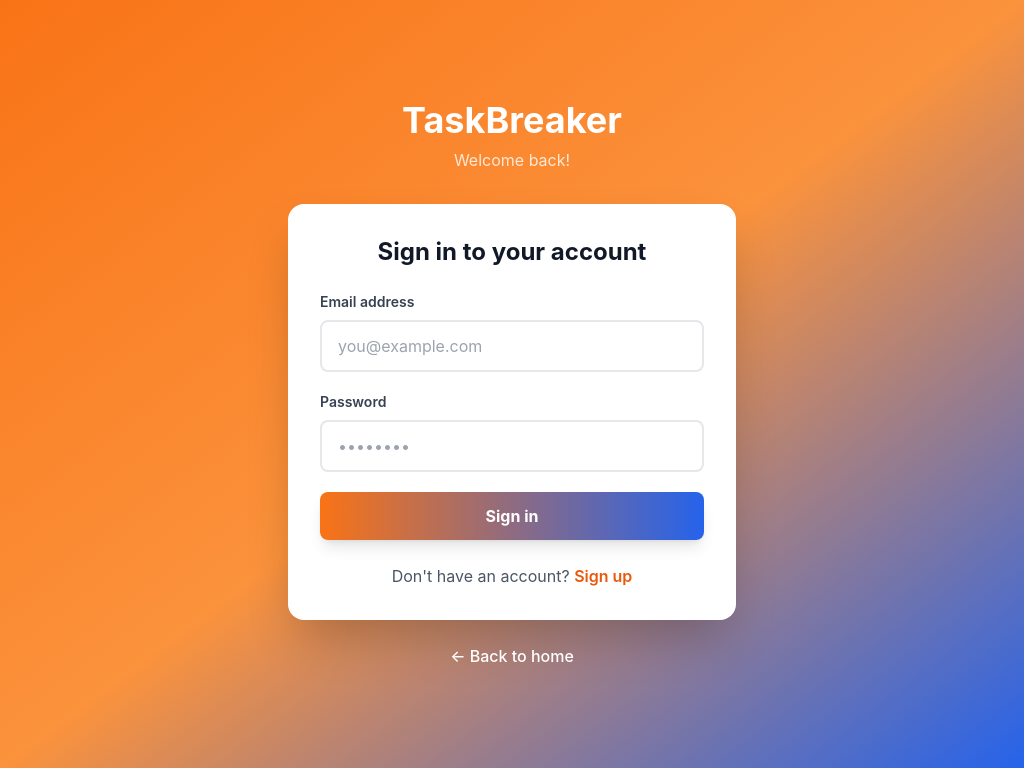
Scenario: LoginPage › Error Display › should display error message when login fails
Type "test@example.com" into the field labelled "Email address" at {"x": 512, "y": 346}, box [320,320,704,372]
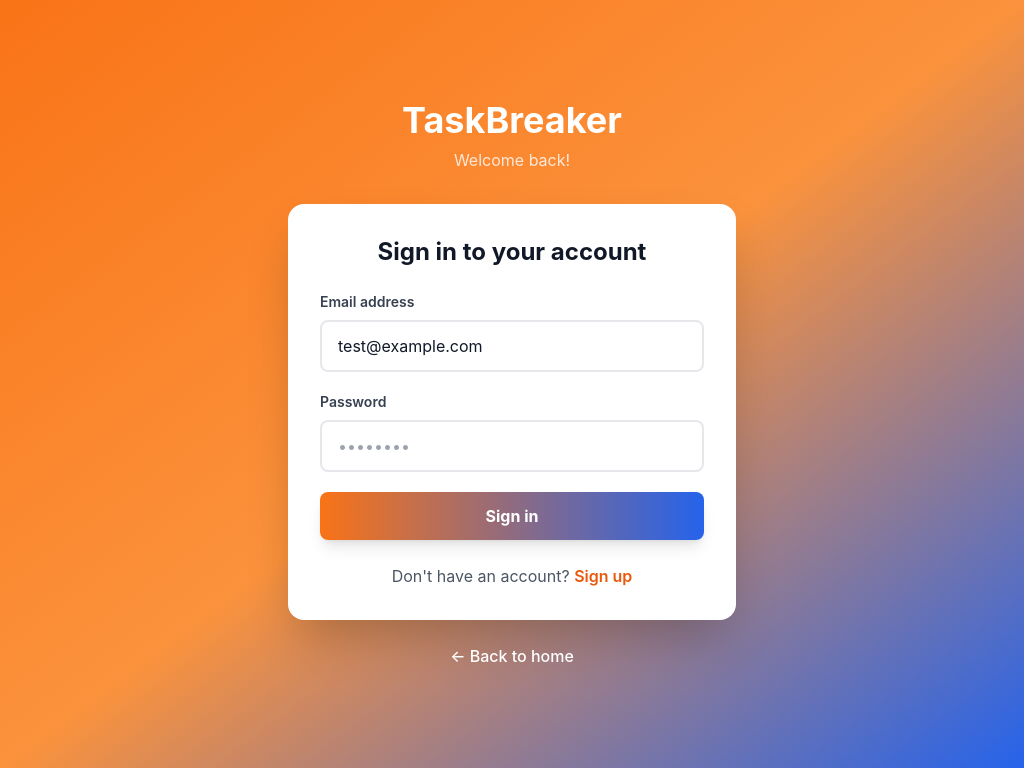
Type "wrongpassword" into the password field labelled "Password" at {"x": 512, "y": 446}, box [320,420,704,472]
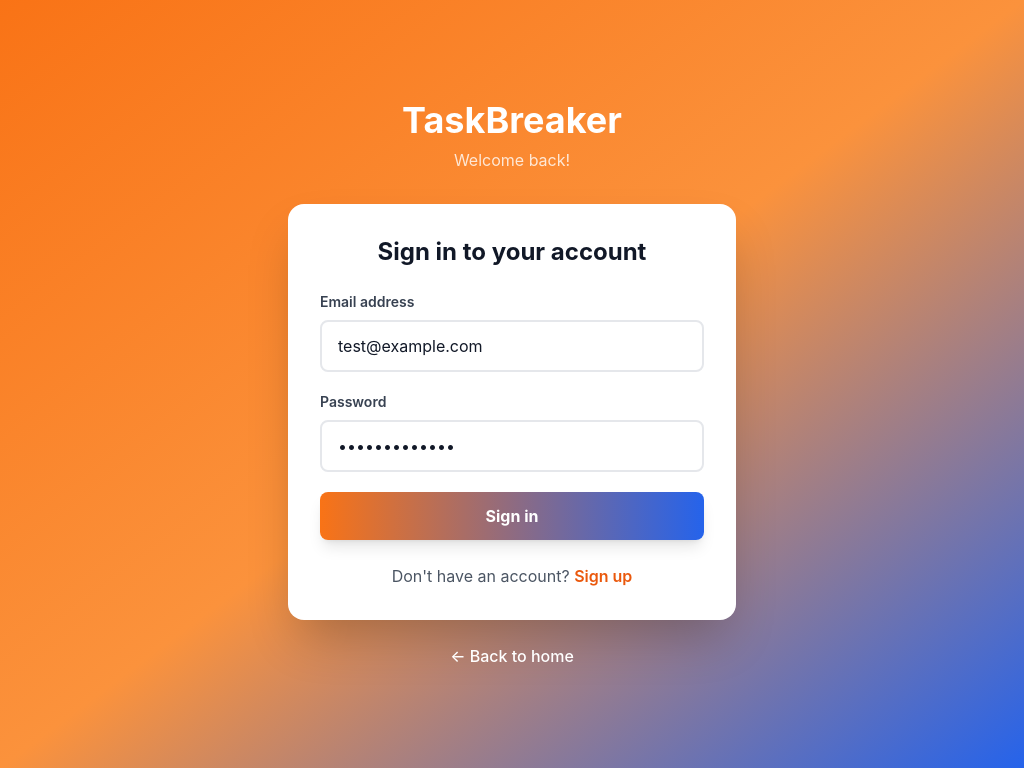
Click the button "Sign in" at {"x": 512, "y": 516}, box [320,492,704,540]
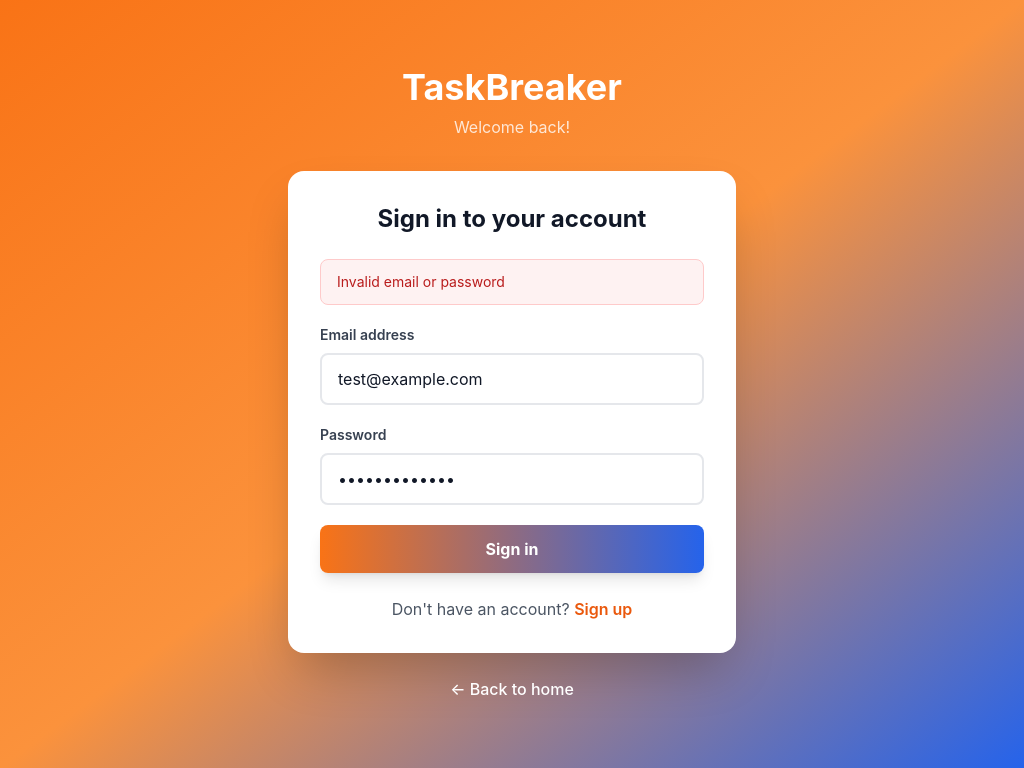
Check: the text "Invalid email or password" is shown, box [320,259,704,305]
